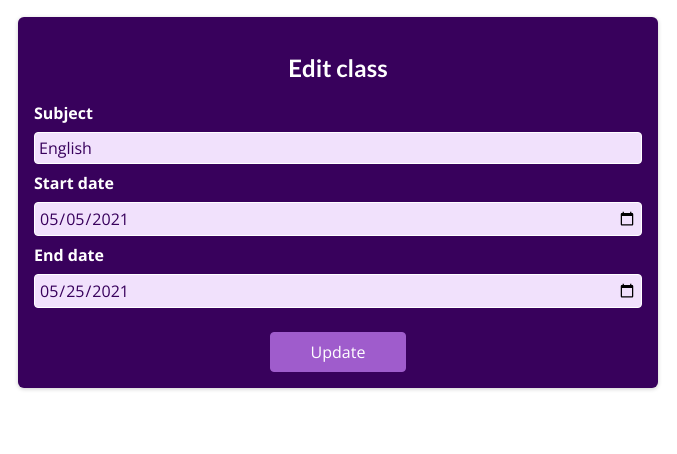
Test: Edit class page › renders subject error if subject is empty
Clear the field named "subject-input" at (338, 148), box [34,132,642,164]
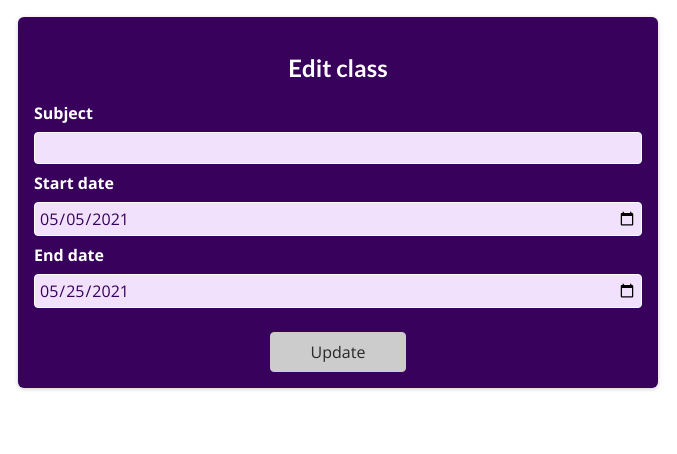
Leave the field named "subject-input", box [34,132,642,164]
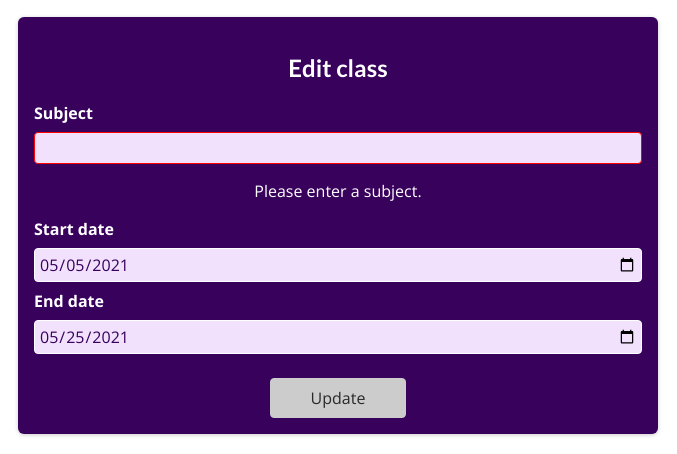
Expected: the text "Please enter a subject." is shown, [254,180,422,202]
